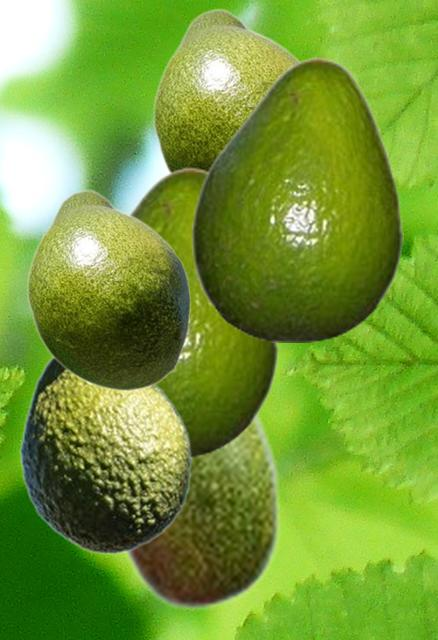avocado: (190, 56, 402, 341), (127, 166, 277, 457), (18, 355, 191, 554), (26, 189, 190, 391), (118, 410, 281, 612), (152, 8, 299, 172)
